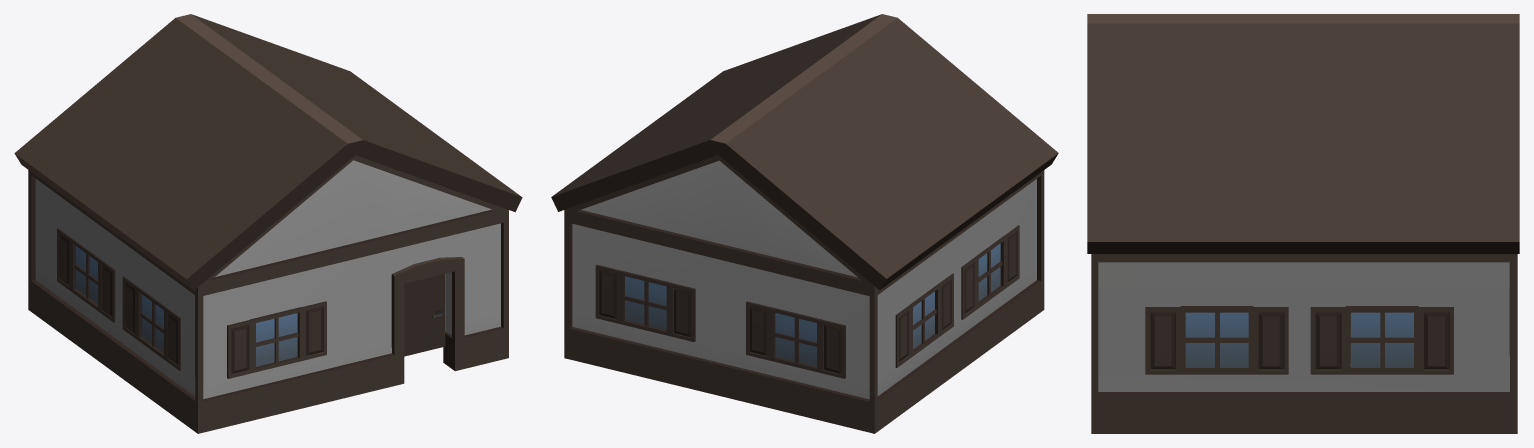
File: Residential_OldCottage_alt02.glb
3 renders of one model, left to right at view 1: azimuth 30°, elevation 25°; view 2: azimuth 150°, elevation 25°; view 3: azimuth 270°, elevation 25°, orthographic. The views are drawn at different scales.
Visible parts, largest first — view 1: base.125, windowRefl.097; view 2: base.125, windowRefl.097; view 3: base.125, windowRefl.097.
Boxes of the visible parts, x1,y1,x2,y2 form: base.125: (14, 14, 522, 433); windowRefl.097: (76, 246, 297, 366); base.125: (551, 14, 1058, 433); windowRefl.097: (625, 243, 1000, 366); base.125: (1087, 14, 1519, 433); windowRefl.097: (1185, 312, 1413, 367).
Bounding box in the file's own units: 9.71 × 7.05 × 8.63.
